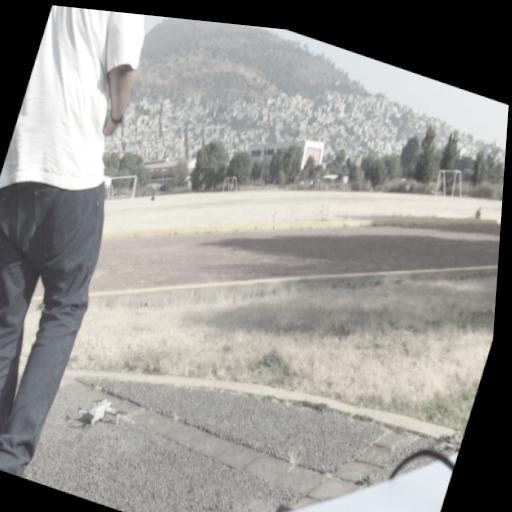drones: (67, 385, 132, 443)
